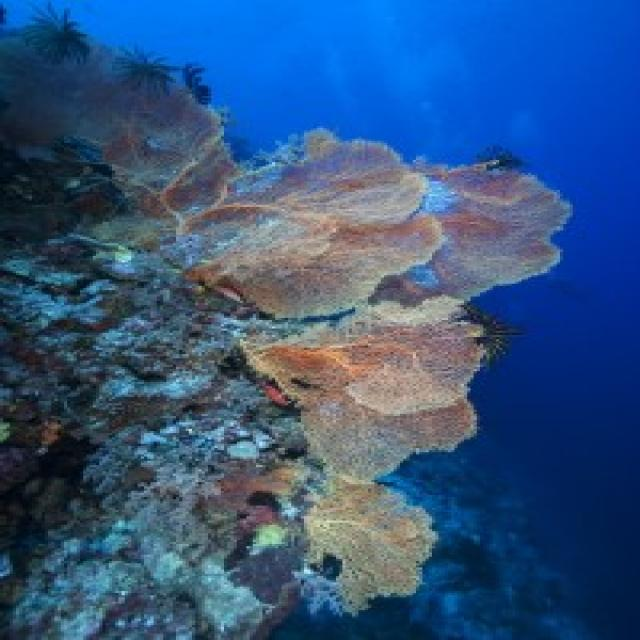Healthy: (59, 67, 567, 325), (247, 327, 475, 479), (308, 477, 436, 609)
